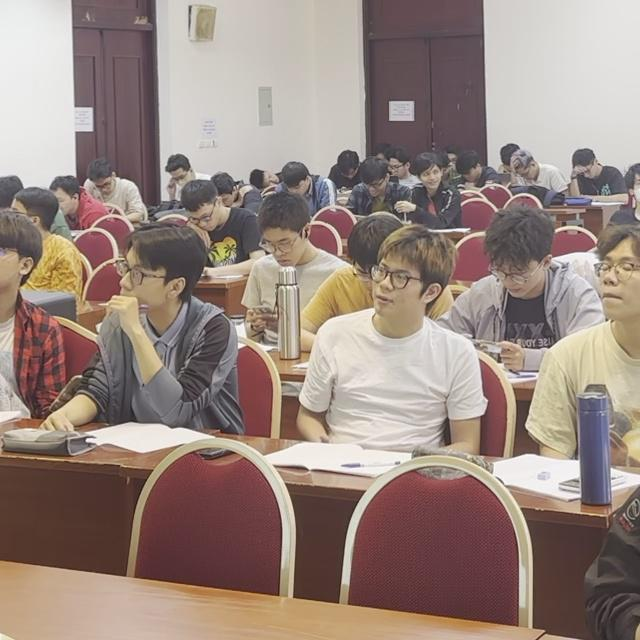Looking away: (517, 164, 535, 182), (366, 179, 383, 198), (425, 168, 439, 188), (389, 160, 402, 178), (97, 178, 110, 195), (580, 163, 594, 178)
Looking forward: (597, 255, 639, 312), (374, 265, 416, 312), (121, 252, 153, 305)
Phone use: (434, 206, 605, 382), (244, 193, 346, 342)
Reading-writing: (170, 182, 261, 276)
